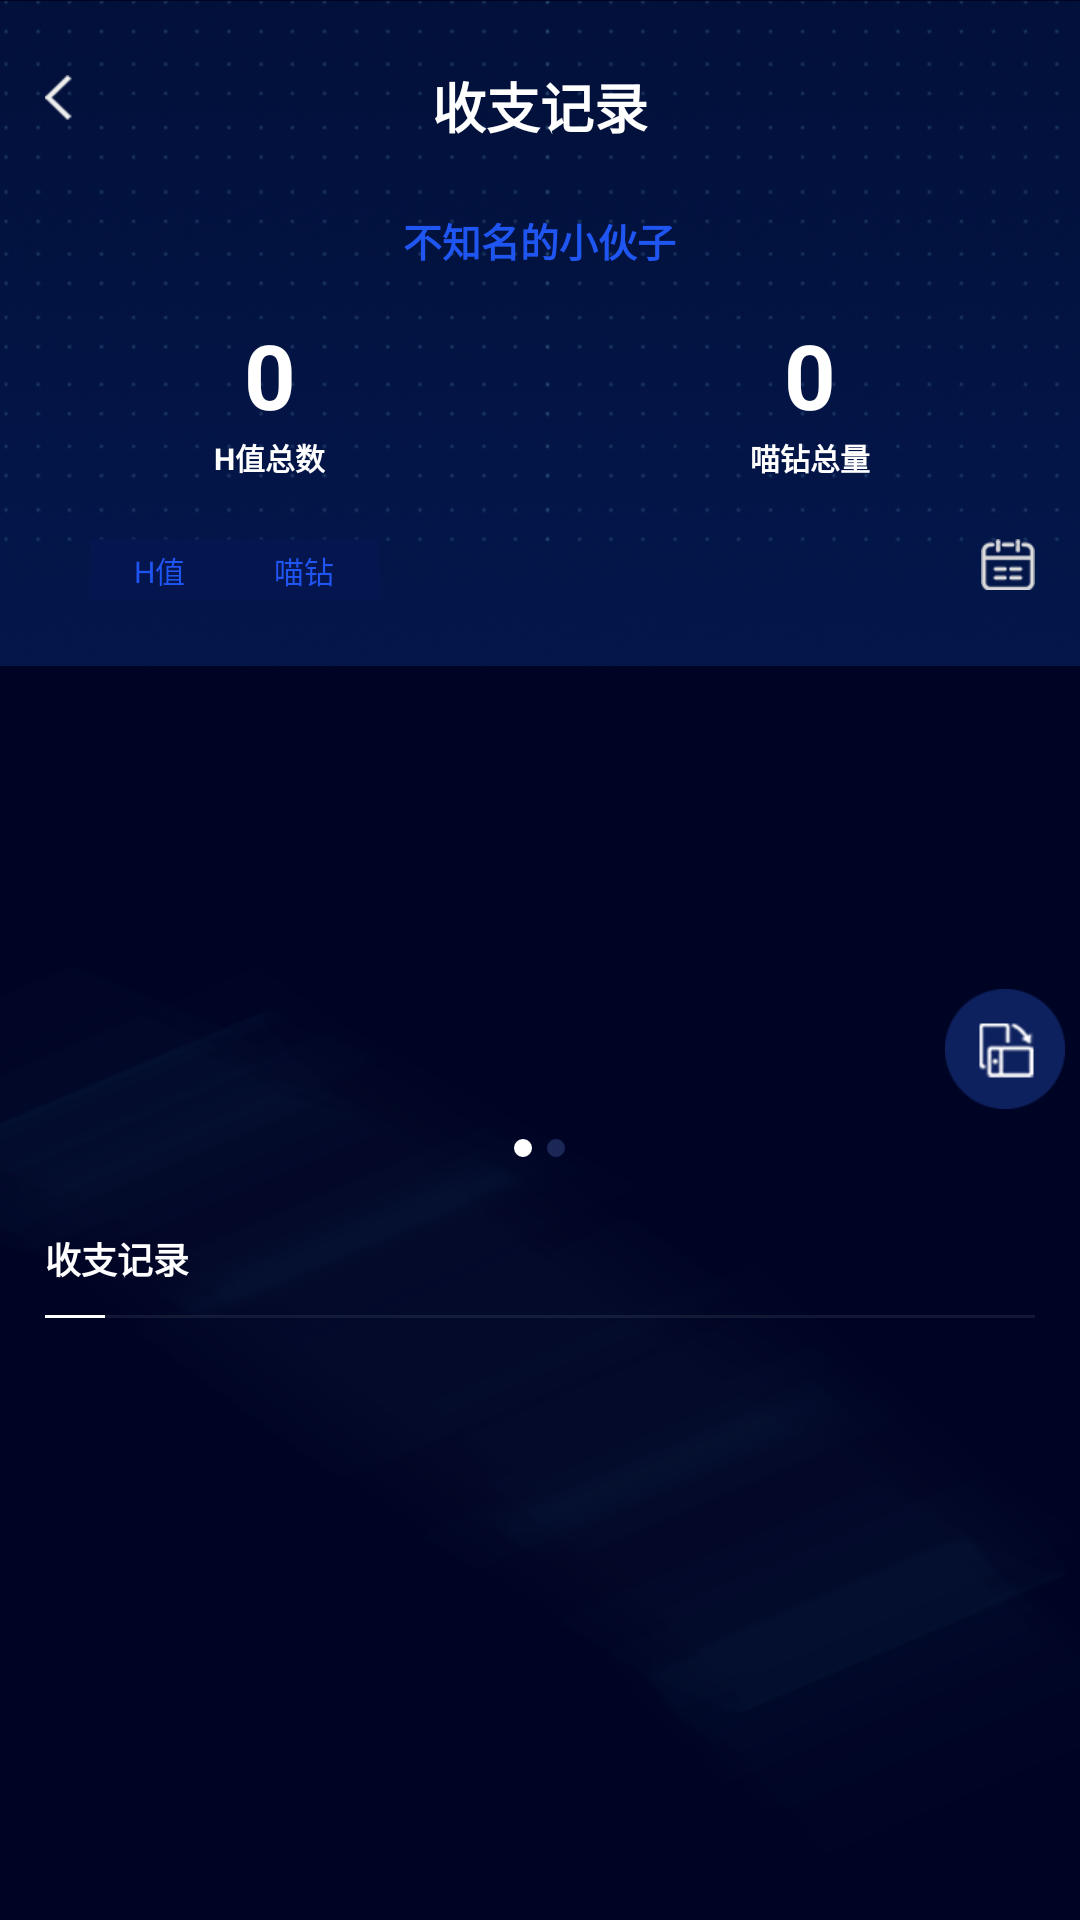

Icons on this 1080 × 1920 Android screen, each with its box as (x1, y1, x2, y2):
record land: (945, 989, 1065, 1109)
record rili: (981, 539, 1035, 590)
